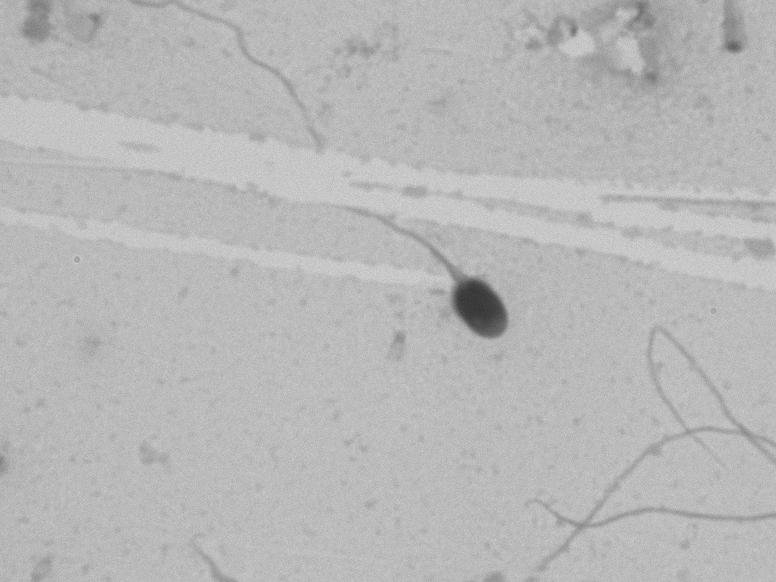Abnormal: (300, 180, 555, 368)
